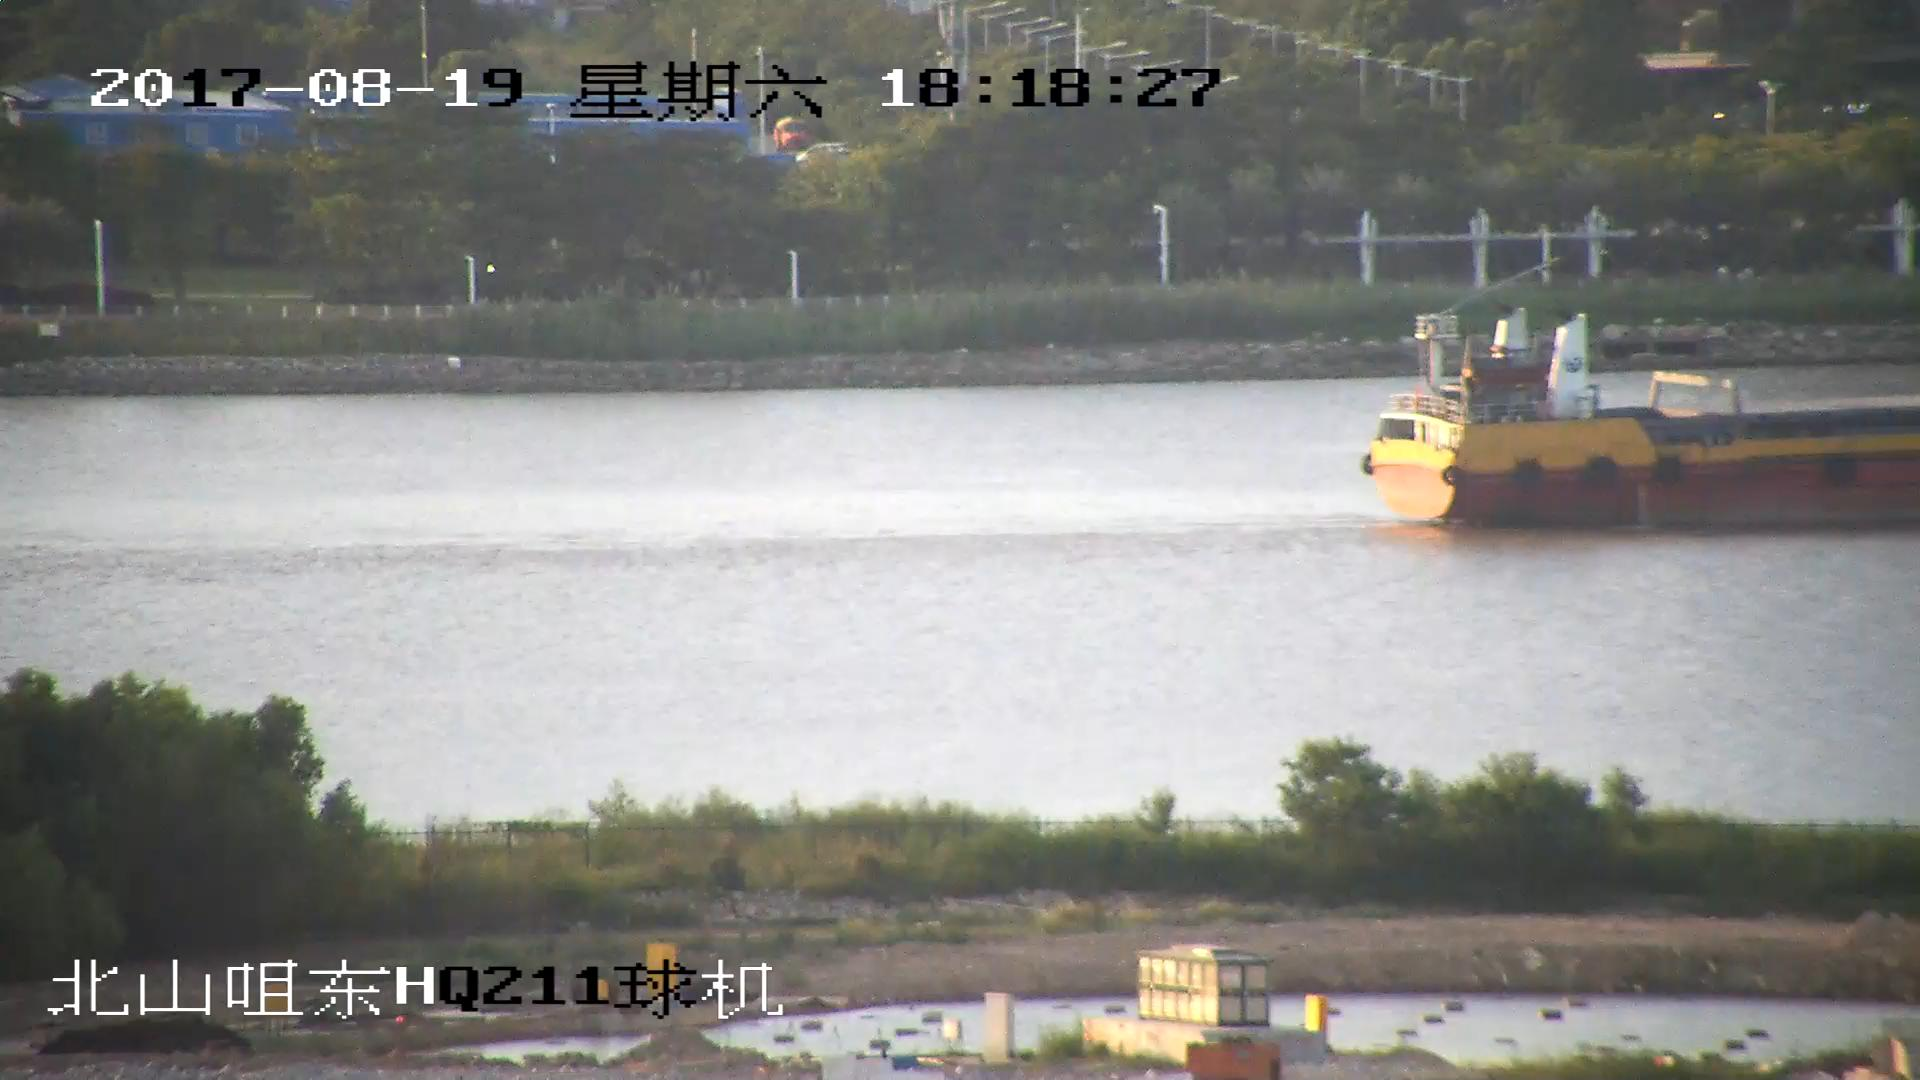general cargo ship: (1368, 313, 1920, 517)
